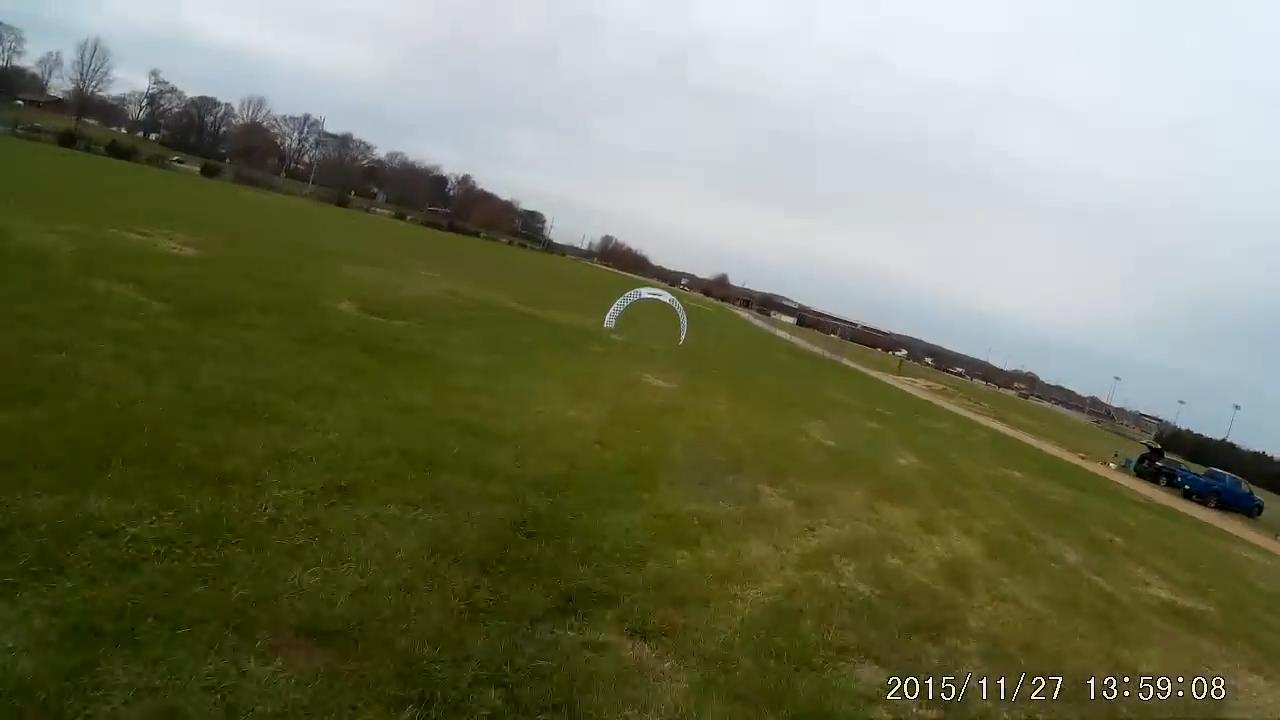gate: (600, 285, 689, 348)
